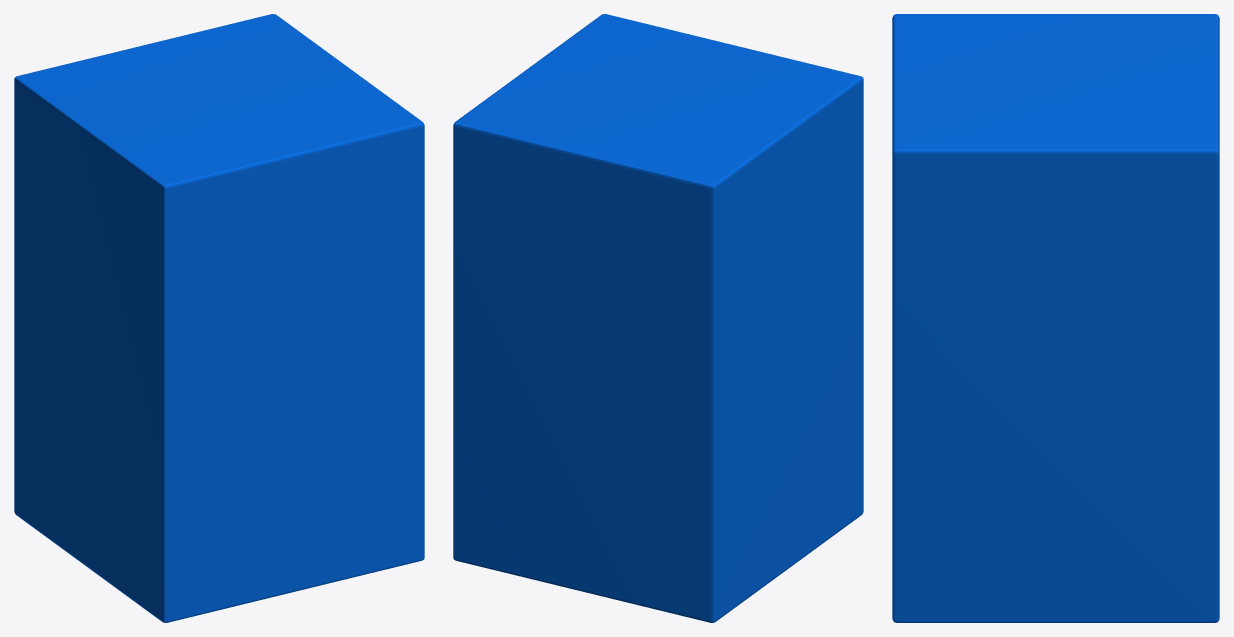
File: PodiumStrips_Base_Lod0.fbx
The picture shows the model from 3 angles, left to right: view 1: azimuth 30°, elevation 25°; view 2: azimuth 150°, elevation 25°; view 3: azimuth 270°, elevation 25°; orthographic projection. The views are drawn at different scales.
Visible parts, largest first — view 1: PodiumStrips_Base_Lod0; view 2: PodiumStrips_Base_Lod0; view 3: PodiumStrips_Base_Lod0.
Part boxes in pixels (x1,y1,x2,y2): PodiumStrips_Base_Lod0: [14, 14, 424, 622]; PodiumStrips_Base_Lod0: [453, 14, 863, 622]; PodiumStrips_Base_Lod0: [892, 14, 1219, 622].
Size of the model in its own units: 73 by 117 by 73.
